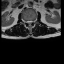CCS_normal: (28, 18, 30, 27)
LFS_normal: (32, 18, 34, 24)
LLS_normal: (30, 18, 32, 25)
RFS_normal: (25, 18, 26, 25)
RLS_normal: (26, 18, 28, 25)
